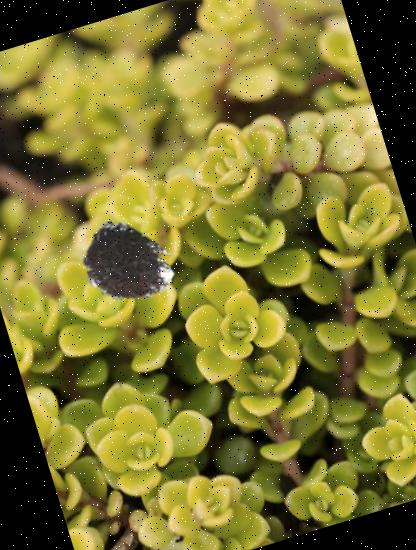Rambutan: (70, 210, 184, 325)
